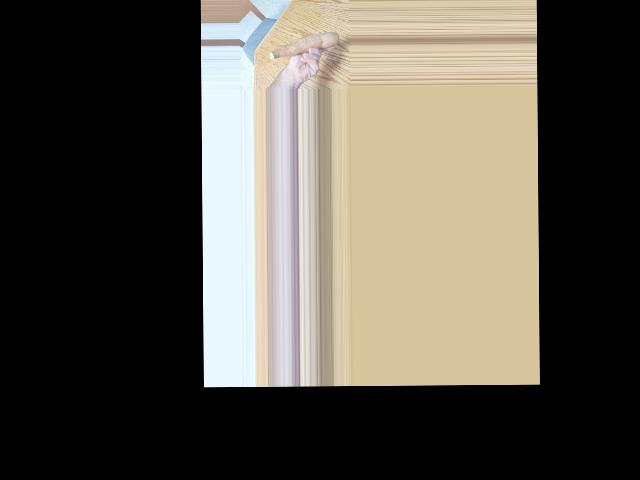sweet_potato: (268, 30, 339, 61)
